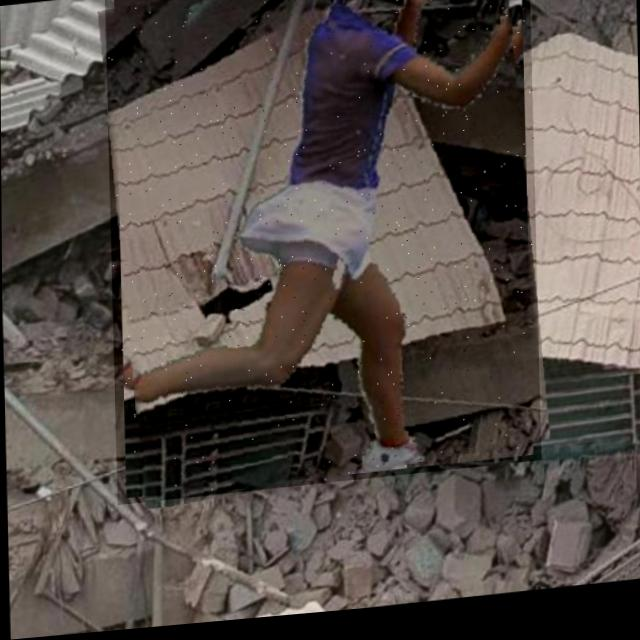Person in Rubble: (104, 0, 540, 507)
